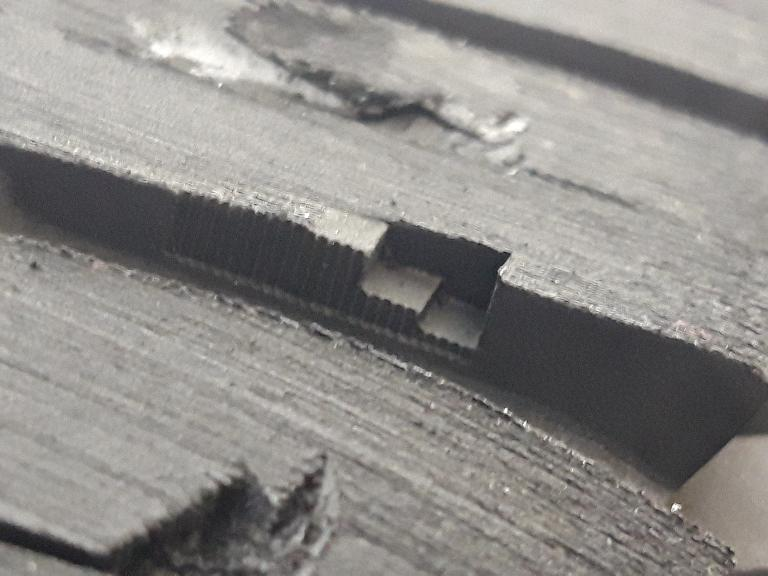temoin:50: (274, 186, 524, 379)
